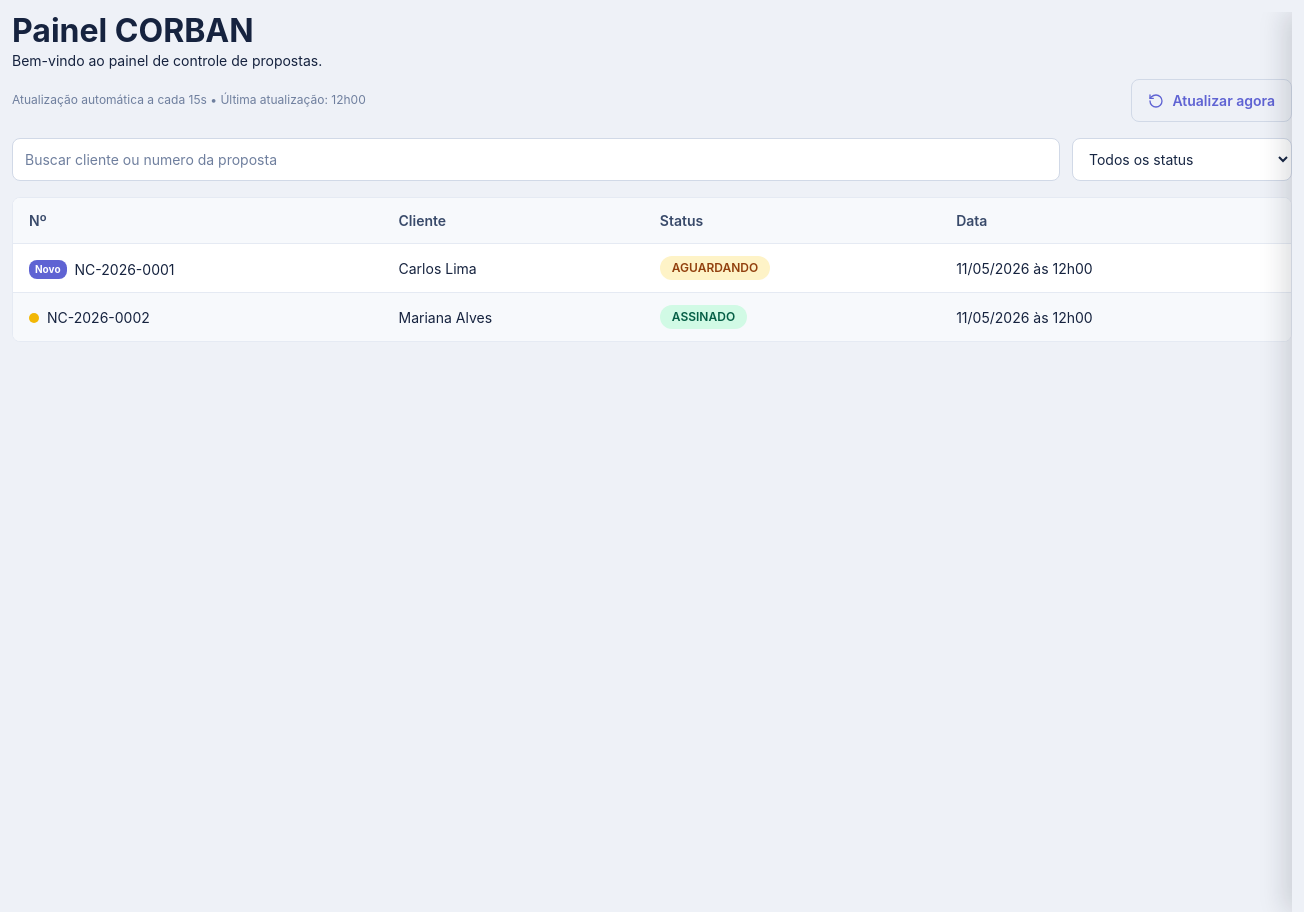
it: PainelPage integration › filters table by search term and status
The width and height of the screenshot is (1304, 912).
Check: the text "Carlos Lima" is shown, box [382,244,644,293]
Check: the text "Mariana Alves" is shown, box [382,293,644,341]
Type "mariana" into the field with placeholder "Buscar cliente ou numero da proposta".
click(536, 160); type("mariana")  # box [12,138,1060,181]
Wait 450 ms
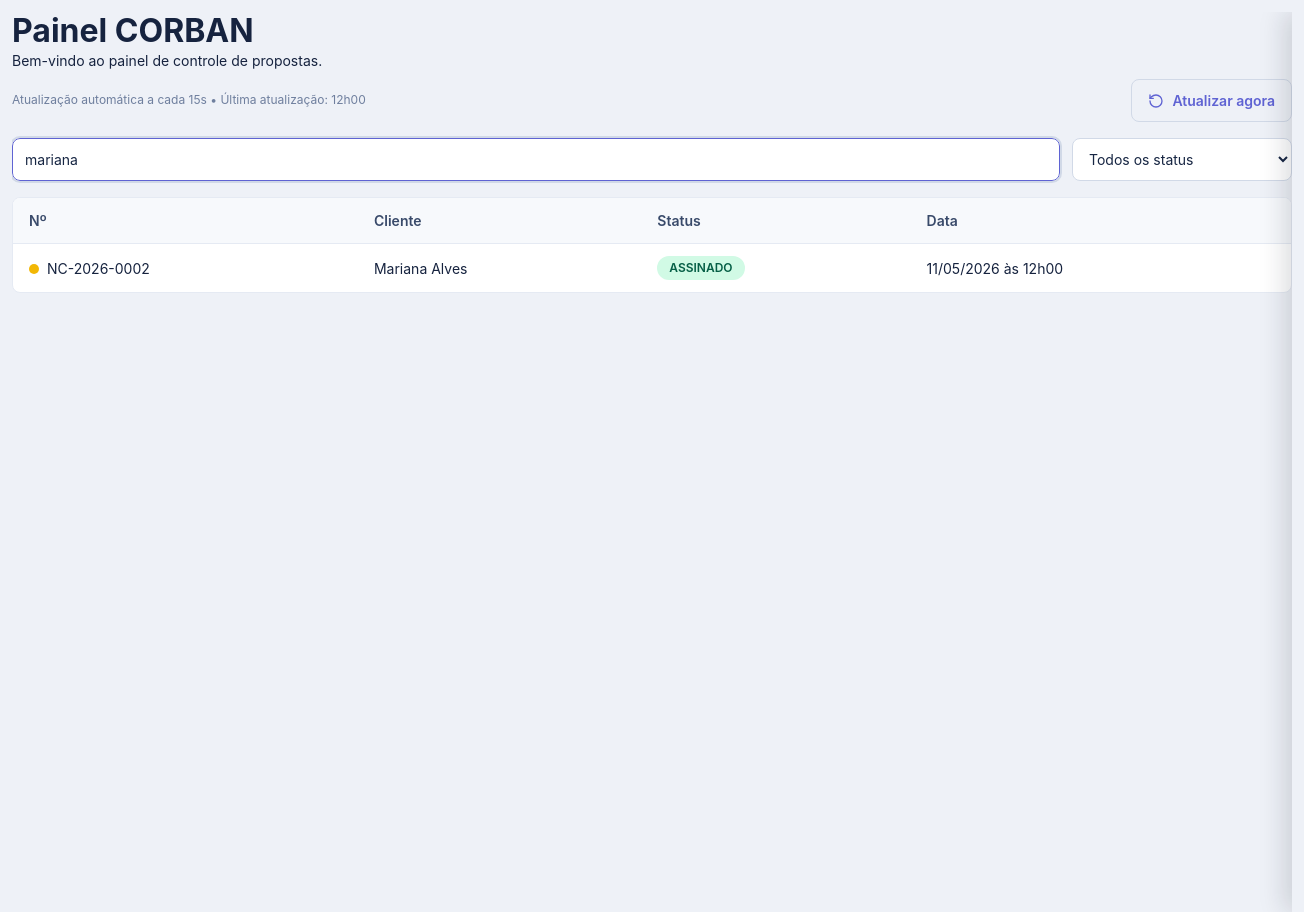
Check: the text "Mariana Alves" is shown, box [358,244,641,292]
Check: the button "Carlos Lima" is gone
Clear the field with placeholder "Buscar cliente ou numero da proposta" at (536, 160), box [12,138,1060,181]
Wait 450 ms
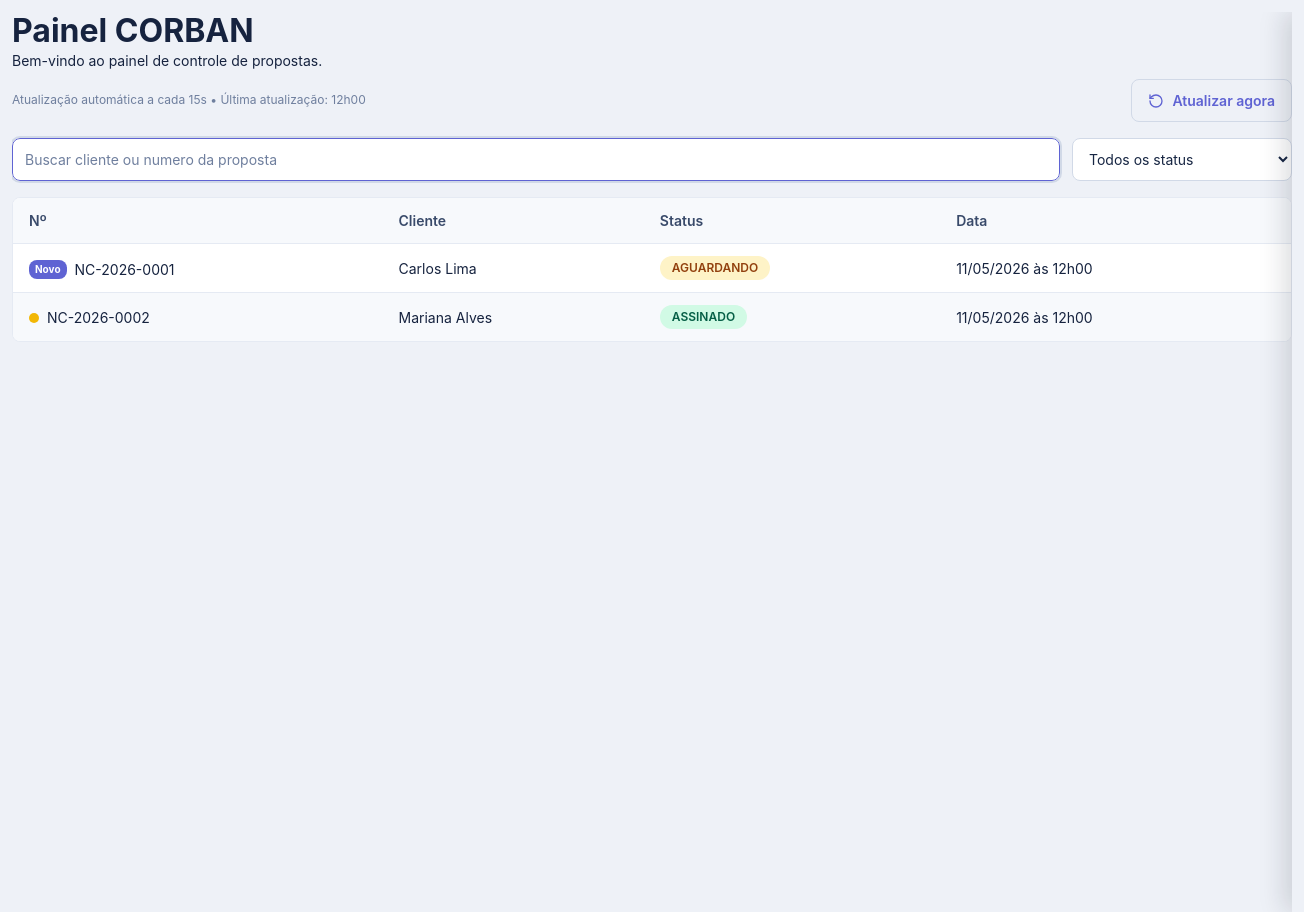
Select "Assinado" in the dropdown at (1182, 160), box [1072,138,1292,181]
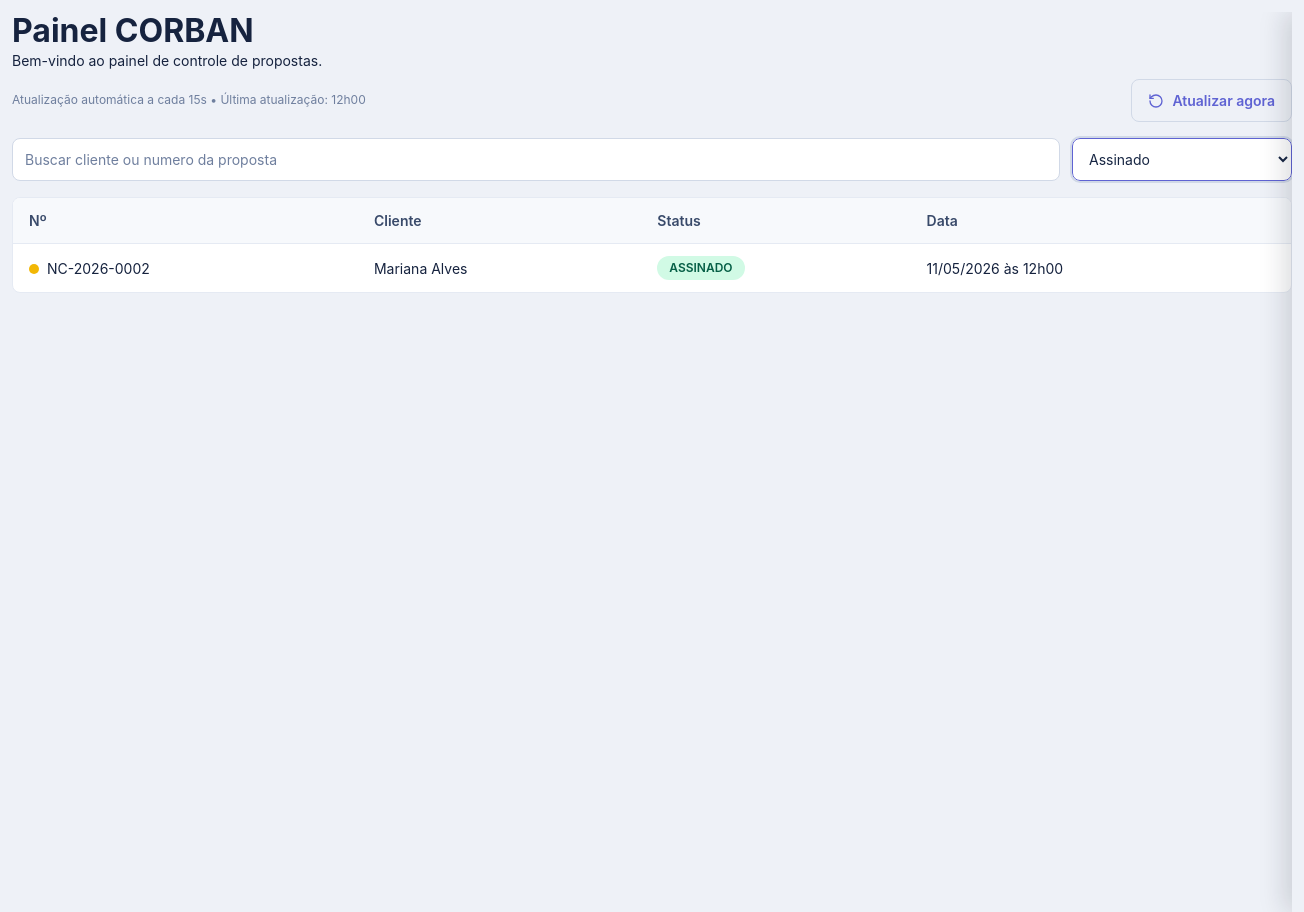
Check: the text "Mariana Alves" is shown, box [358,244,641,292]
Check: the button "Carlos Lima" is gone
